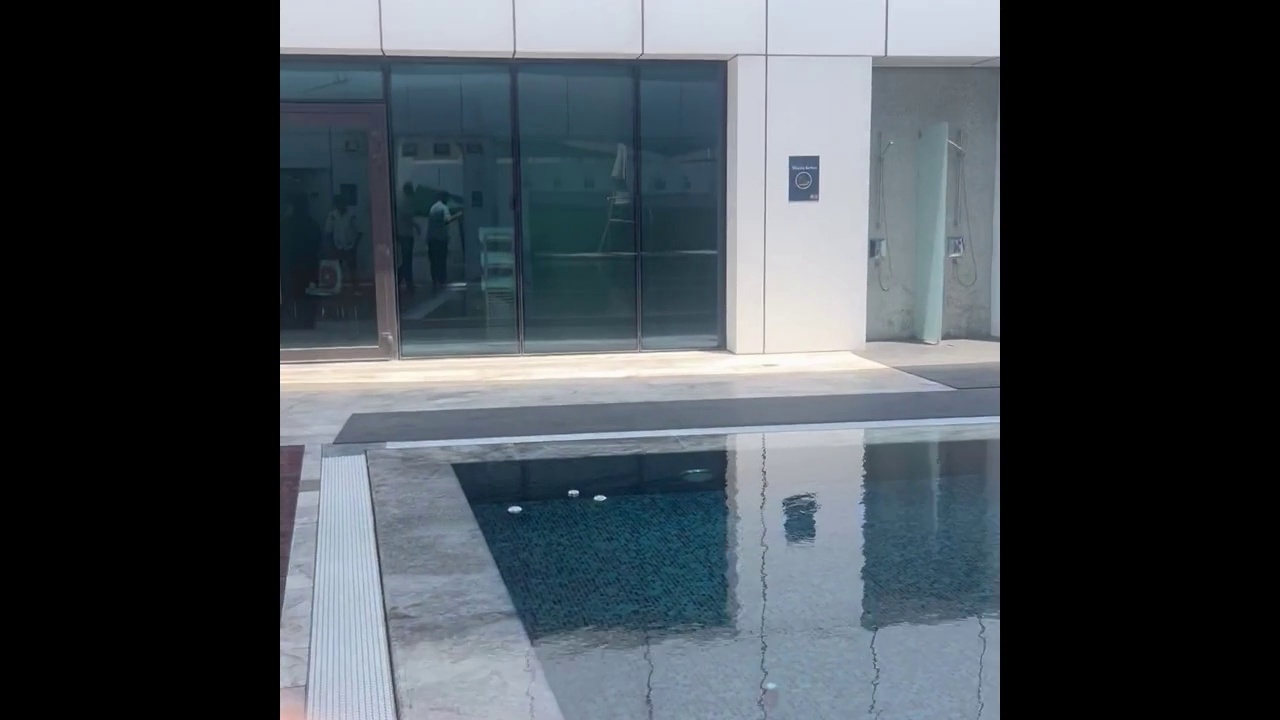debris: (760, 681, 784, 712), (504, 504, 526, 524), (592, 491, 609, 510), (566, 487, 581, 507)
